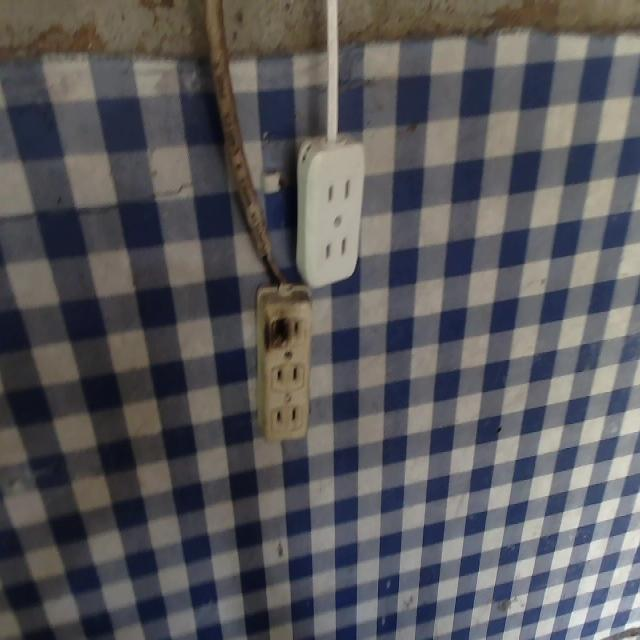-: (263, 309, 293, 355)
